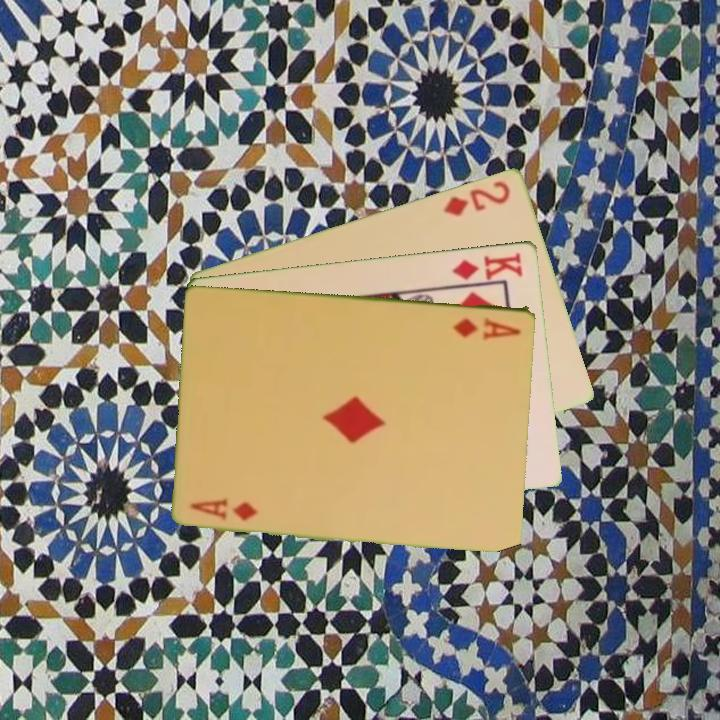2d: (440, 176, 513, 219)
Ad: (450, 313, 524, 342), (187, 496, 261, 524)
Kd: (448, 248, 526, 283)
